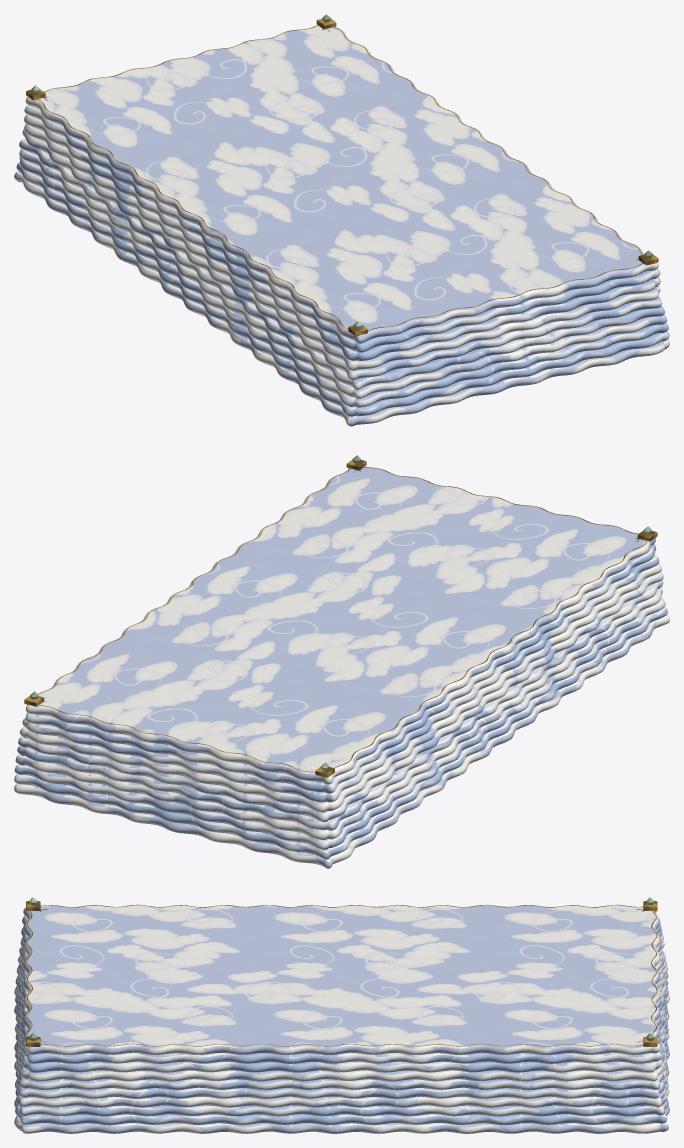
The model's file is arena_10.fbx.
3 views of the same model, one above another, from view 1: azimuth 30°, elevation 25°; view 2: azimuth 150°, elevation 25°; view 3: azimuth 270°, elevation 25° (orthographic). The views are drawn at different scales.
Visible parts, largest first — view 1: arena_10; view 2: arena_10; view 3: arena_10.
Boxes of the visible parts, <box> form: arena_10: <box>14,14,669,426</box>; arena_10: <box>14,455,669,868</box>; arena_10: <box>14,897,669,1133</box>.
Size of the model in its own units: 54818 by 99813 by 15800.
